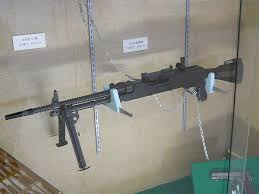gun: (3, 53, 244, 170)
